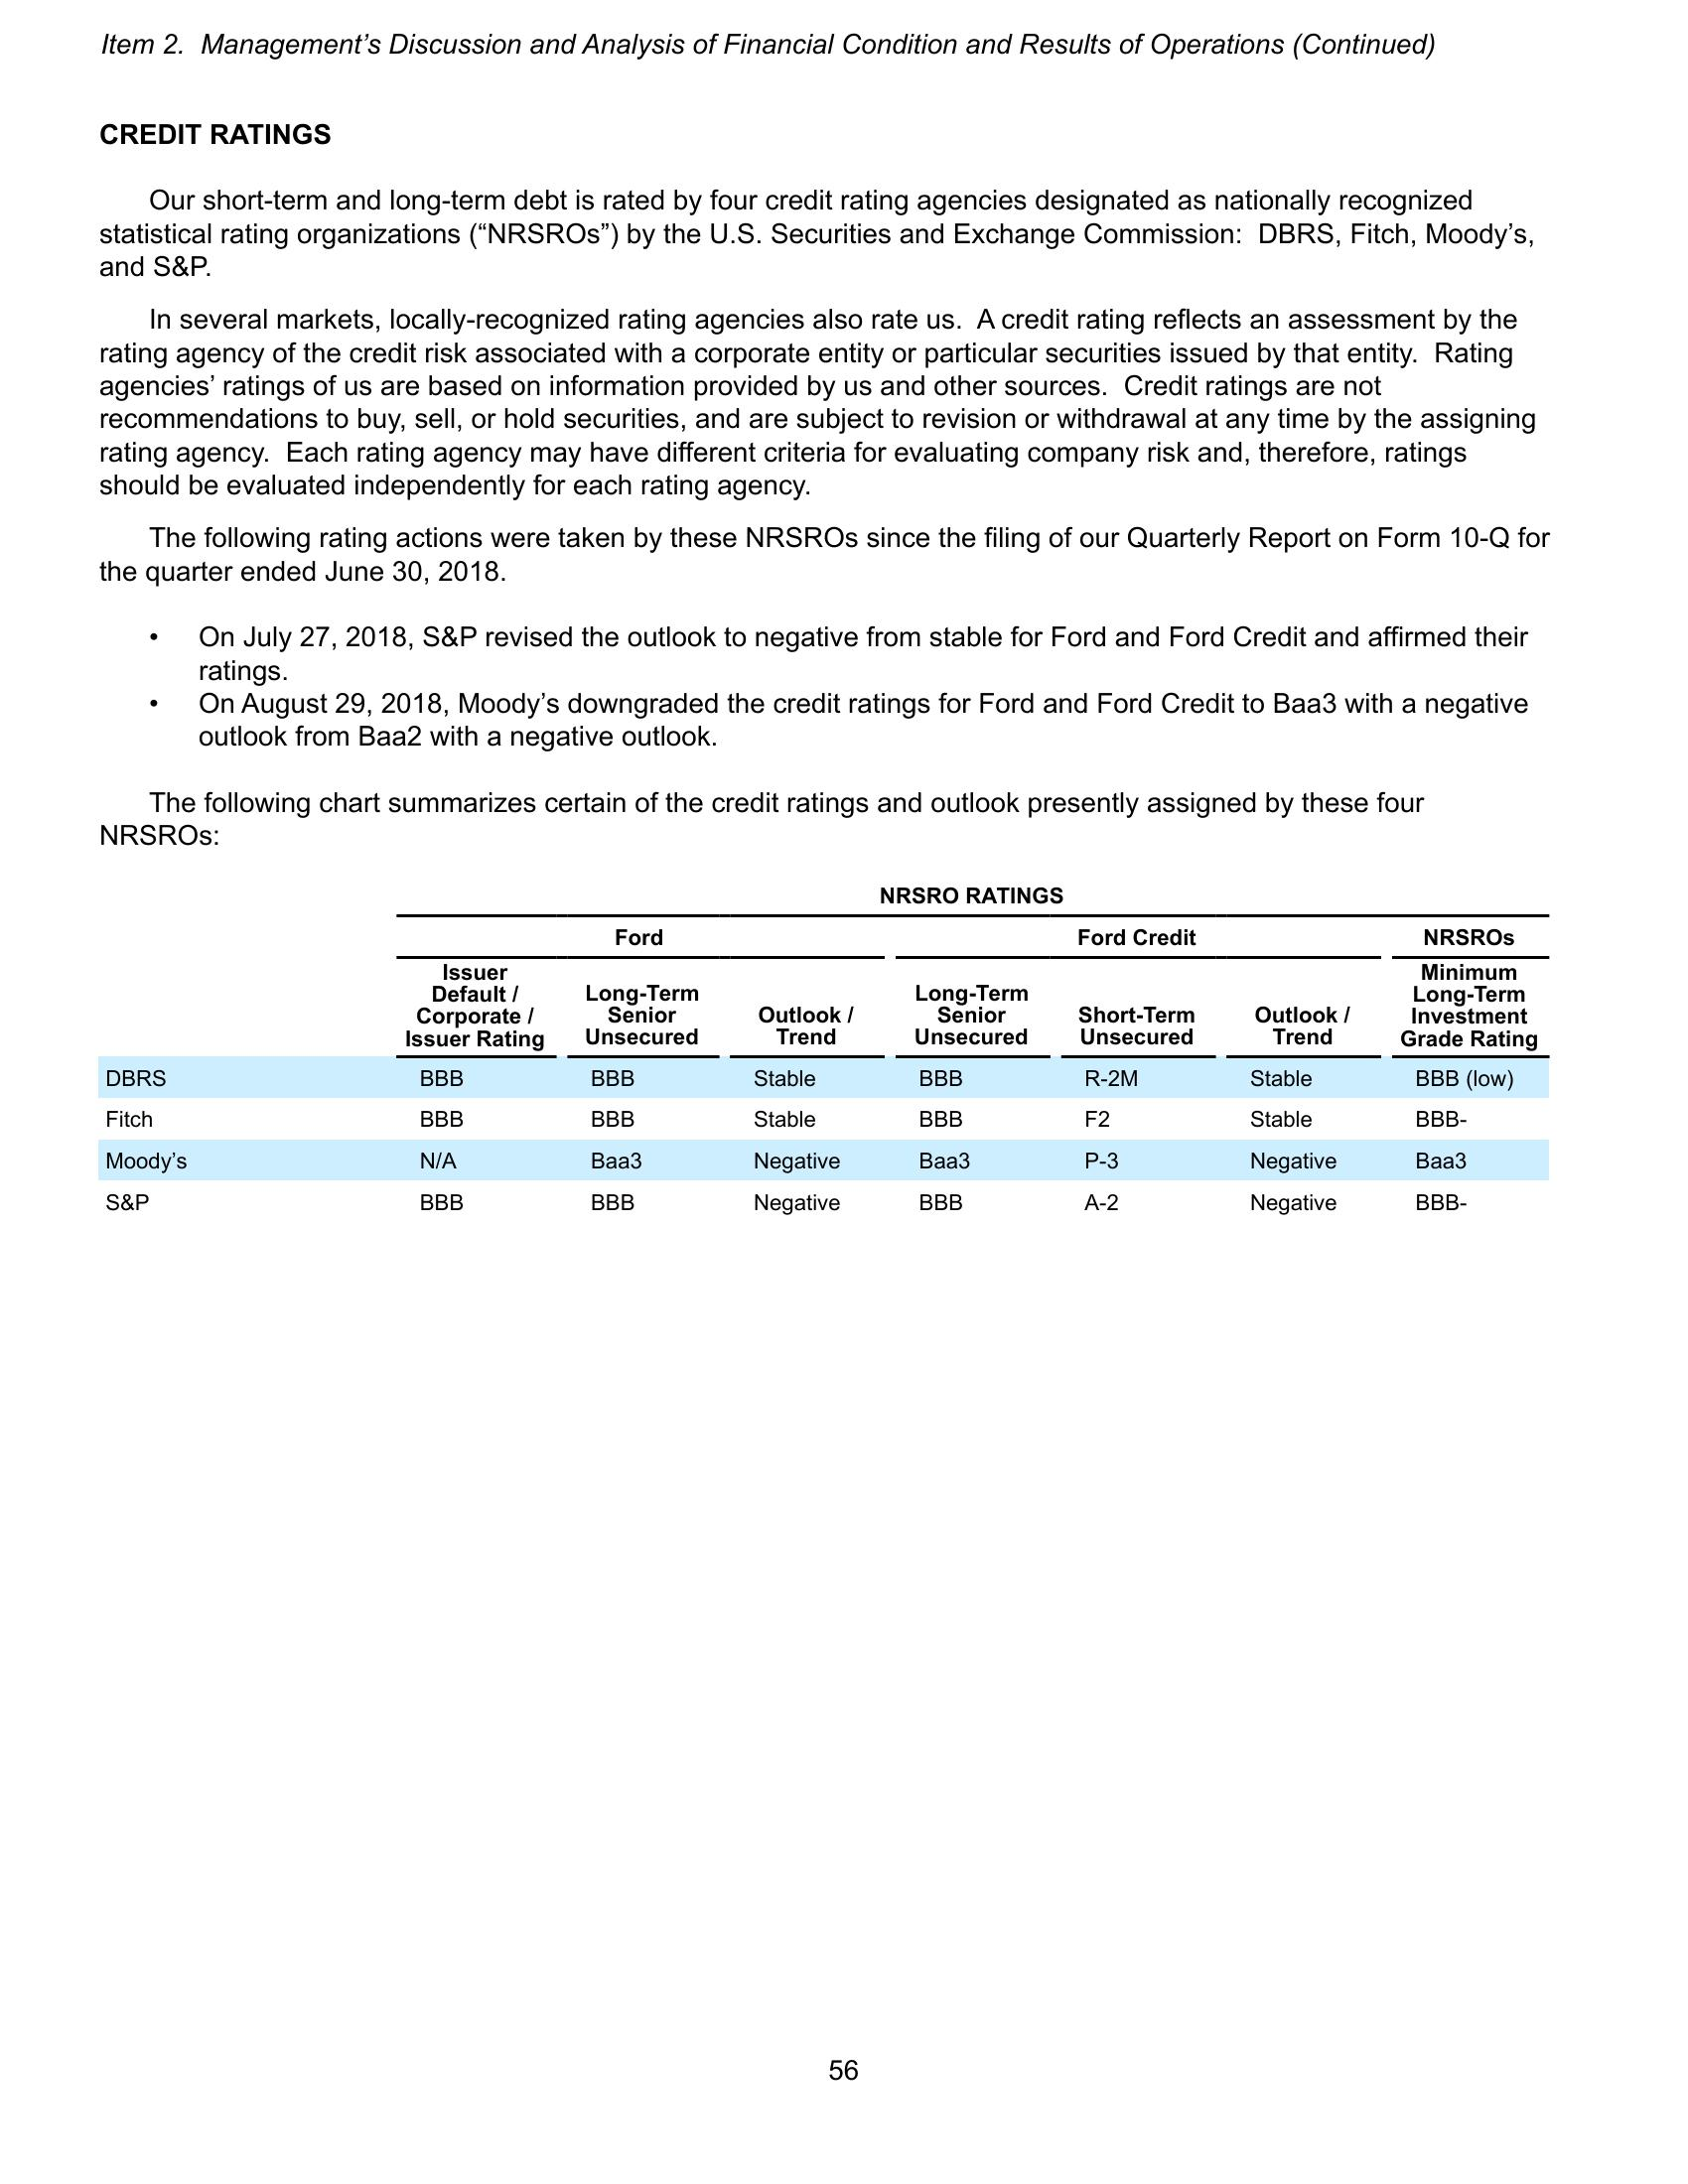table: (98, 881, 1553, 1218)
